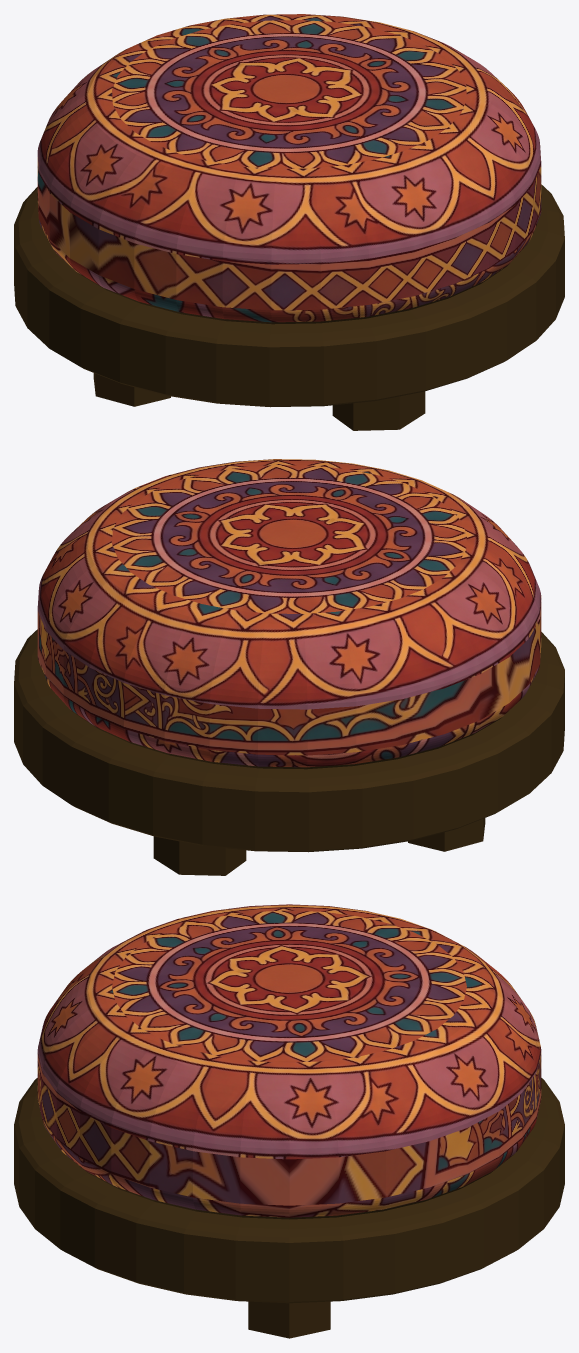
The model's file is small_circle_chair2.fbx.
The picture shows the model from 3 angles, top to bottom: view 1: azimuth 30°, elevation 25°; view 2: azimuth 150°, elevation 25°; view 3: azimuth 270°, elevation 25°; orthographic projection.
Parts seen in each view (by area): view 1: small_circle_chair; view 2: small_circle_chair; view 3: small_circle_chair.
Boxes of the visible parts, x1,y1,x2,y2 form: small_circle_chair: (14, 14, 564, 430); small_circle_chair: (14, 459, 564, 875); small_circle_chair: (14, 904, 564, 1338).
Bounding box in the file's own units: 69.95 × 36.38 × 68.95.
